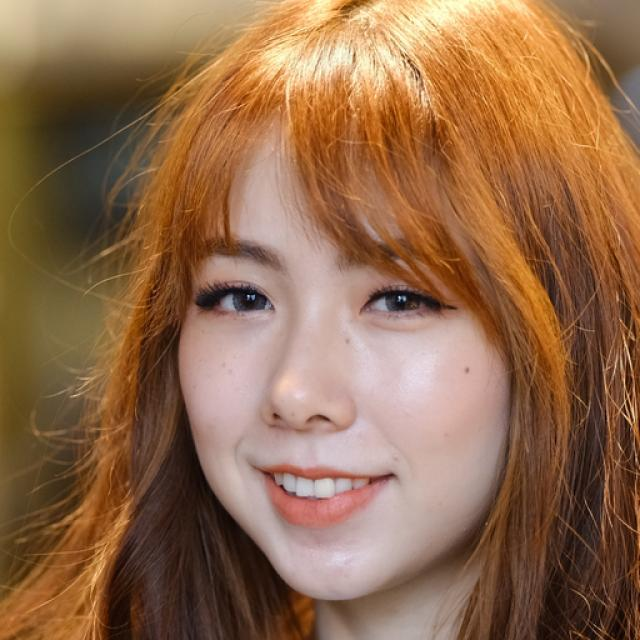happy: (178, 84, 512, 600)
